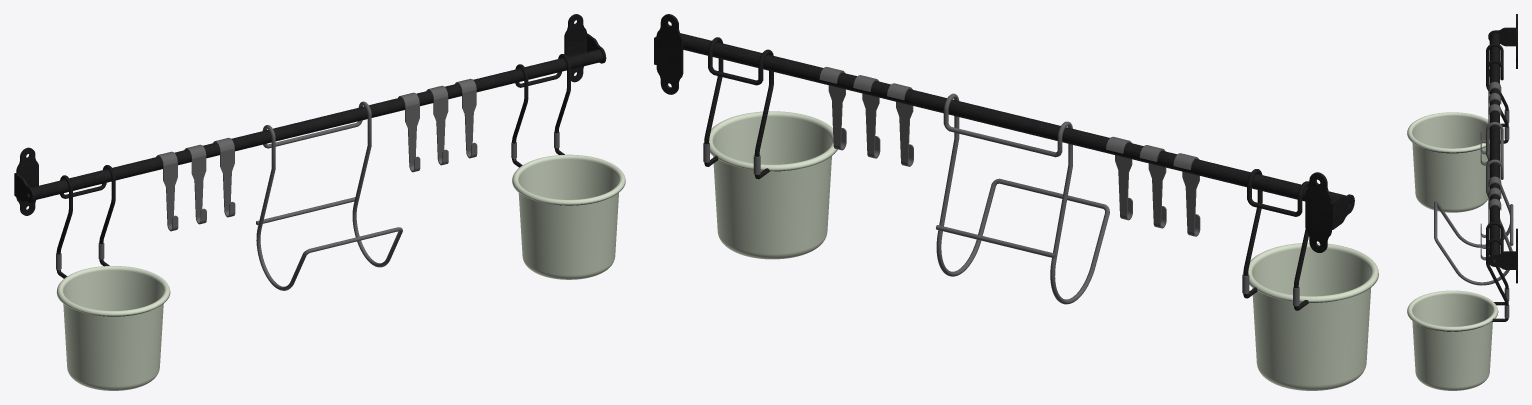
The model's file is 075 - stand divari jadid meshki goldan sabz.glb.
3 renders of one model, left to right at view 1: azimuth 30°, elevation 25°; view 2: azimuth 150°, elevation 25°; view 3: azimuth 270°, elevation 25°, orthographic. The views are drawn at different scales.
Visible parts, largest first — view 1: Group#30 [90059] (×2), Group#7 [90071], Group#1 [117092] (×6), Group#14 [90047], [75169] (×2), [22995], [22112]; view 2: Group#30 [90059] (×2), Group#7 [90071], Group#1 [117092] (×6), Group#14 [90047], [75169] (×2), [22995], [22112], Group#15 [90046]; view 3: Group#30 [90059] (×2), Group#7 [90071], Group#14 [90047], [75169] (×2), Group#1 [117092] (×6), Group#159 [23531] (×2), Group#15 [90046].
Boxes of the visible parts, bbox=[...] form: Group#30 [90059] (×2): bbox=[56, 154, 625, 390]; Group#7 [90071]: bbox=[31, 49, 603, 199]; Group#1 [117092] (×6): bbox=[156, 78, 477, 231]; Group#14 [90047]: bbox=[256, 101, 402, 290]; [75169] (×2): bbox=[56, 54, 602, 316]; [22995]: bbox=[564, 14, 586, 82]; [22112]: bbox=[16, 147, 38, 215]; Group#30 [90059] (×2): bbox=[709, 111, 1378, 390]; Group#7 [90071]: bbox=[680, 33, 1345, 201]; Group#1 [117092] (×6): bbox=[819, 67, 1200, 236]; Group#14 [90047]: bbox=[936, 93, 1109, 304]; [75169] (×2): bbox=[704, 37, 1336, 310]; [22995]: bbox=[656, 14, 683, 94]; [22112]: bbox=[1305, 172, 1331, 252]; Group#15 [90046]: bbox=[936, 225, 1055, 258]; Group#30 [90059] (×2): bbox=[1407, 112, 1498, 390]; Group#7 [90071]: bbox=[1489, 32, 1499, 261]; Group#14 [90047]: bbox=[1434, 122, 1512, 285]; [75169] (×2): bbox=[1418, 43, 1508, 331]; Group#1 [117092] (×6): bbox=[1480, 81, 1501, 260]; Group#159 [23531] (×2): bbox=[1488, 27, 1517, 269]; Group#15 [90046]: bbox=[1510, 204, 1513, 245].
Bounding box in the file's own units: 0.806 × 0.2792 × 0.168.
6 materials, 2 textured.
